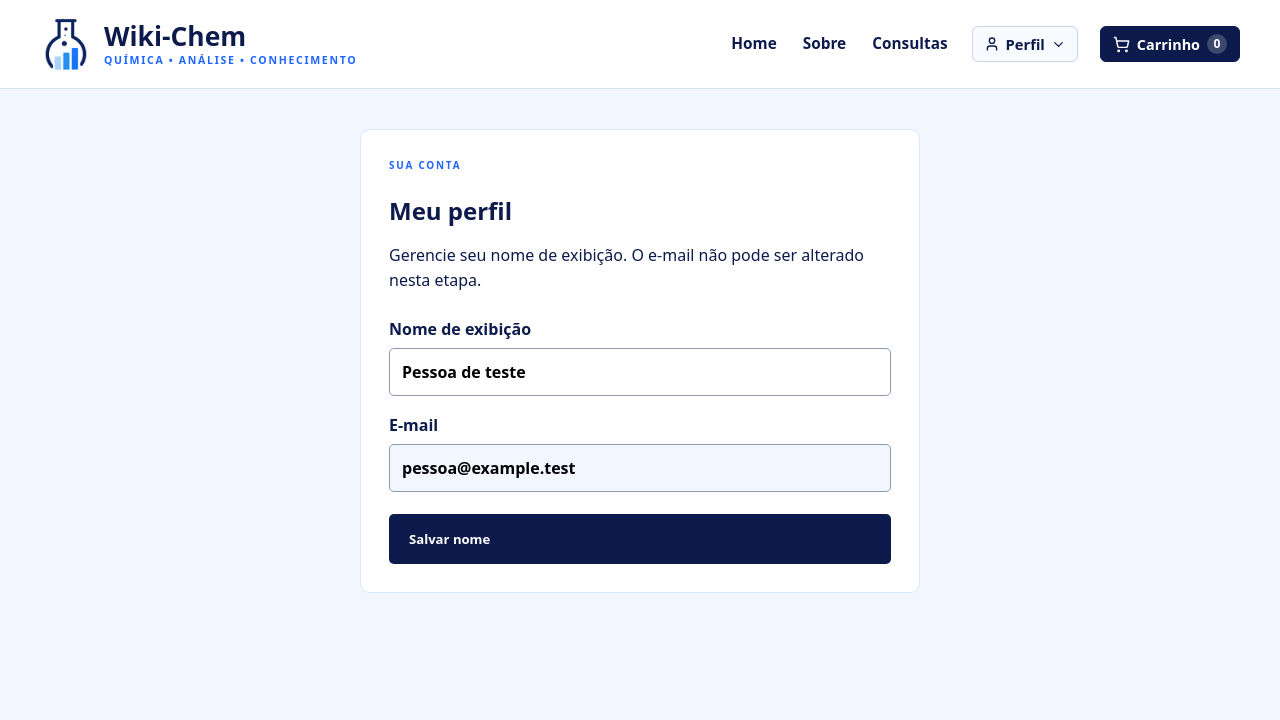
Scenario: integração da interface com contratos de identidade e navegação principal › perfil envia somente nome e CSRF; 401 remove estado e solicita login
expect the heading "Meu perfil" is shown: met, box top-left (389, 194), bottom-right (512, 227)
Replace the text in the field labelled "Nome de exibição" with "Outro nome": (640, 372) top-left (389, 348), bottom-right (891, 396)
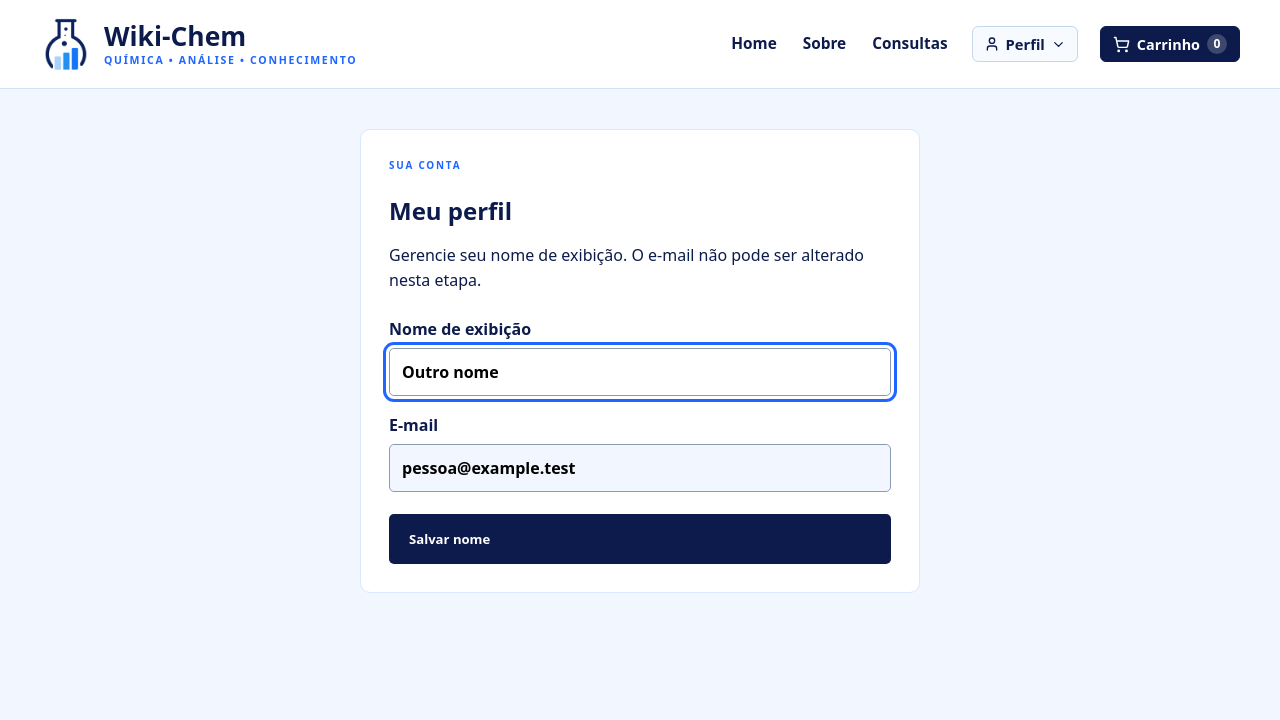
Click the button "Salvar nome": (450, 539) top-left (389, 514), bottom-right (891, 564)
(page scrolled)
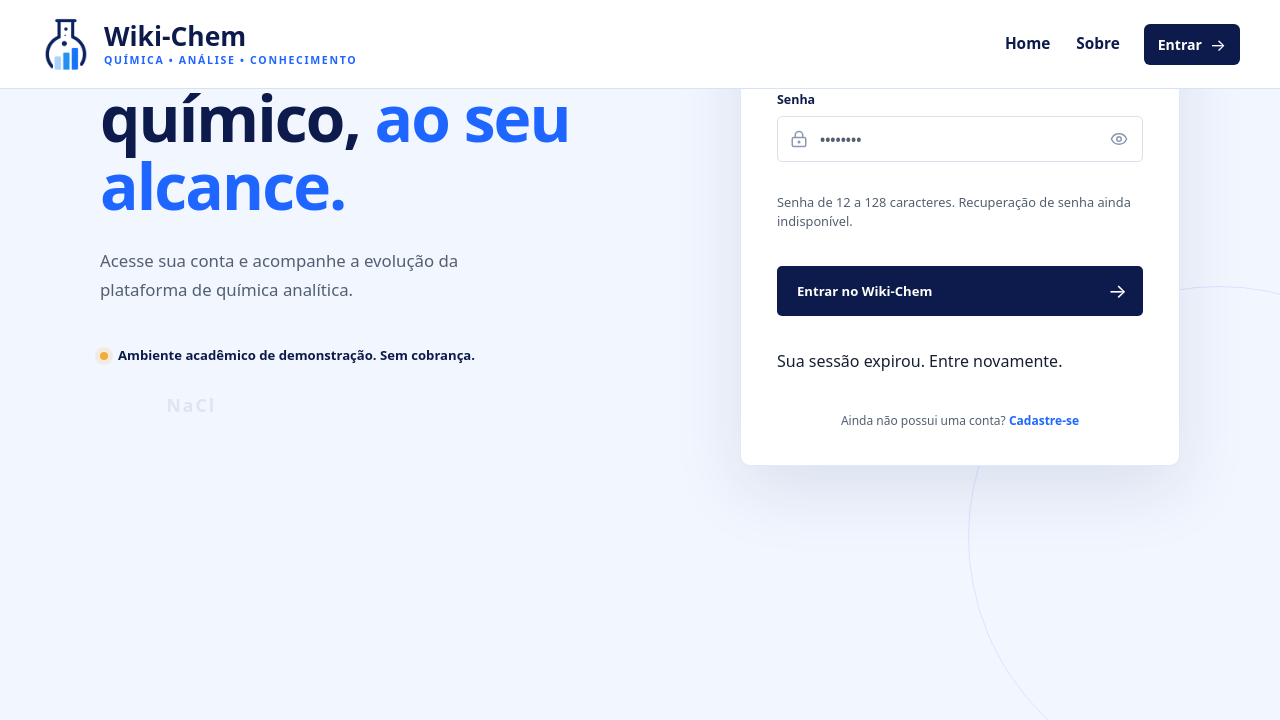
expect the message shows "Sua sessão expirou": met, box top-left (777, 350), bottom-right (1062, 372)
